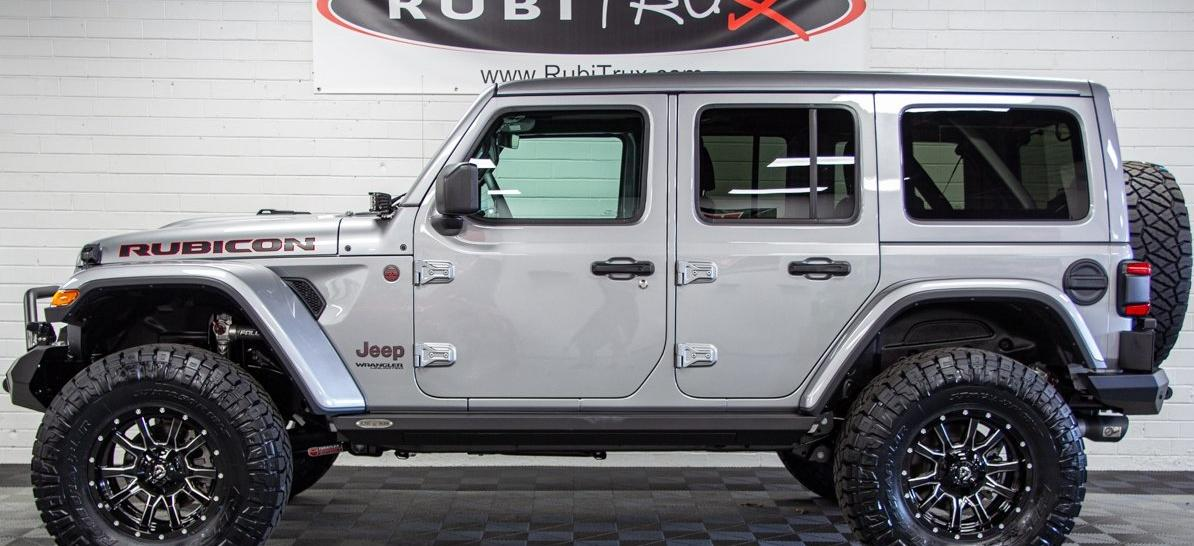SUV: (6, 73, 1194, 544)
